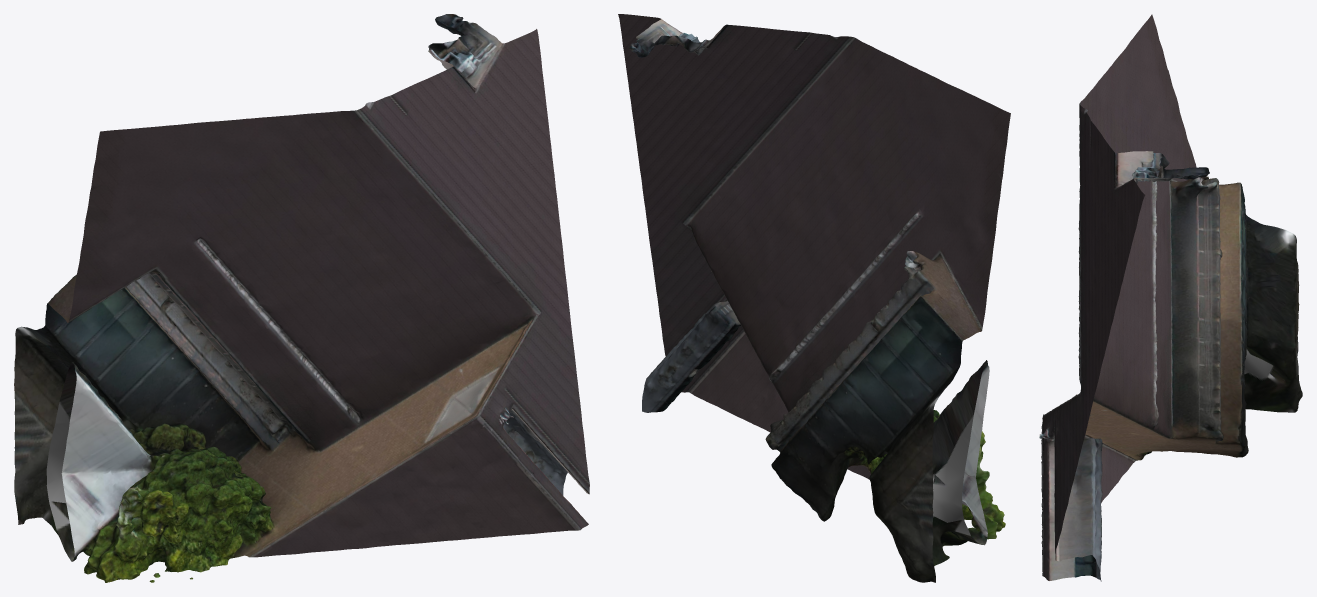
Rendered from Tile_+015_+012.fbx.
3 renders of one model, left to right at view 1: azimuth 30°, elevation 25°; view 2: azimuth 150°, elevation 25°; view 3: azimuth 270°, elevation 25°, orthographic. The views are drawn at different scales.
Parts seen in each view (by area): view 1: DefaultName; view 2: DefaultName; view 3: DefaultName.
Boxes of the visible parts, x1,y1,x2,y2 form: DefaultName: (14, 14, 589, 582); DefaultName: (618, 14, 1010, 582); DefaultName: (1039, 14, 1302, 581).
Size of the model in its own units: 22.54 by 22.54 by 13.88.
